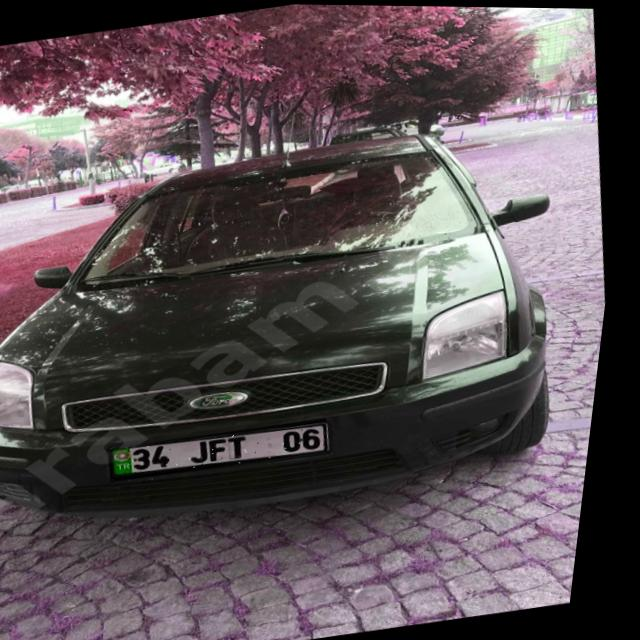license_plate: (117, 414, 342, 484)
